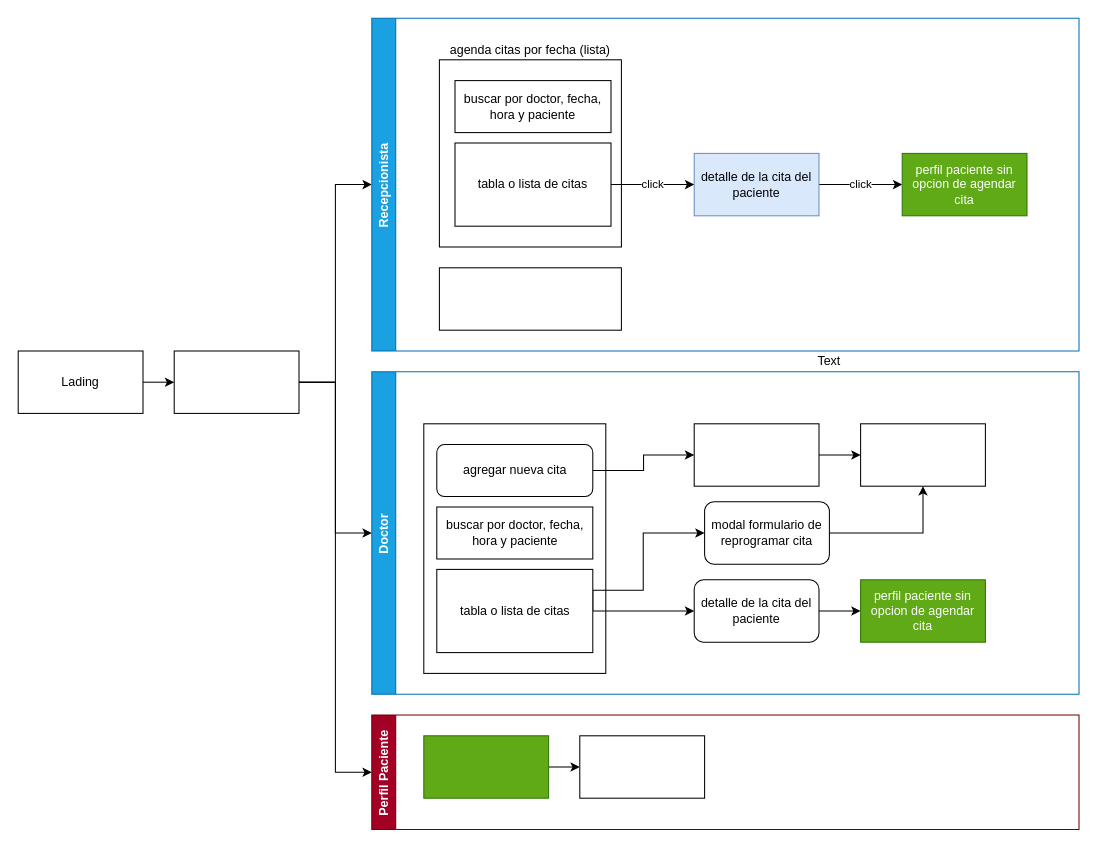
This 1097x848 diagram has some shape labels left out. The shapes that lost their labels are listed below. From the top down, each one's box as (x1, y1, x2, y2) in pixels, then its label:
(438, 267, 621, 330): Disponibilidad de doctores (lista)
(173, 350, 299, 413): Login
(693, 423, 819, 486): modal formulario de agregar nueva cita
(860, 423, 985, 486): modal mensaje de confirmacion|error guardado
(423, 423, 606, 673): agenda pacientes citados por fecha (lista) de asignados a un doctor
(423, 735, 549, 798): perfil paciente con opcion de agendar cita
(579, 735, 705, 798): modal de confirmacion de edad del paciente
